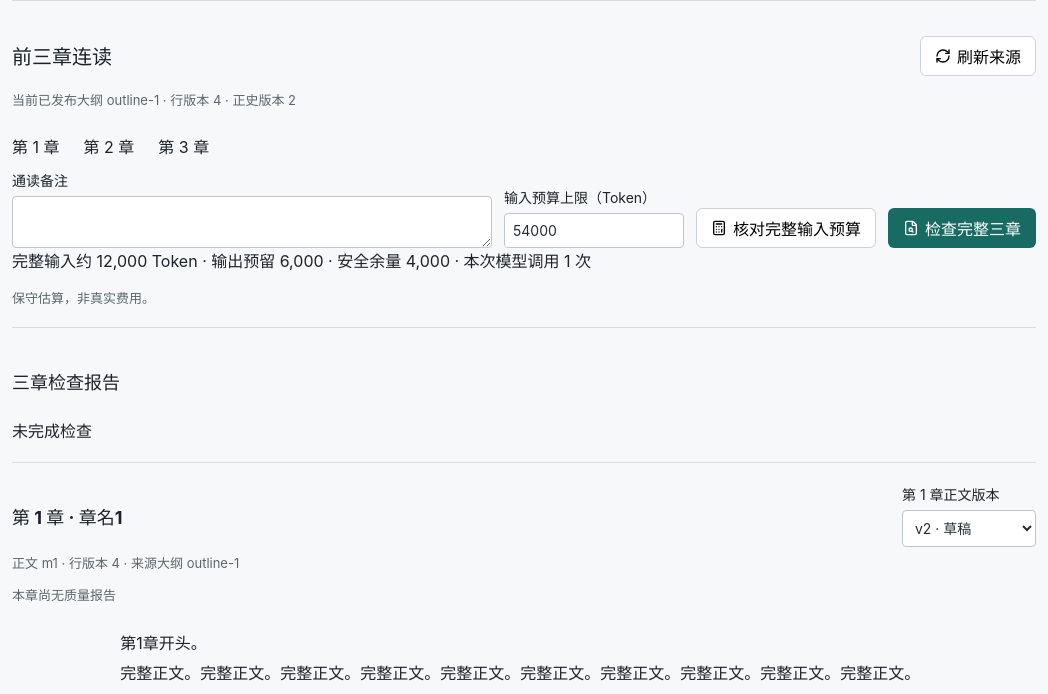
FirstThreeChaptersPanel › shows a failed check and waits for explicit retry
The width and height of the screenshot is (1048, 694).
Click the button "检查完整三章": {"x": 962, "y": 228} left=888, top=208, right=1036, bottom=248
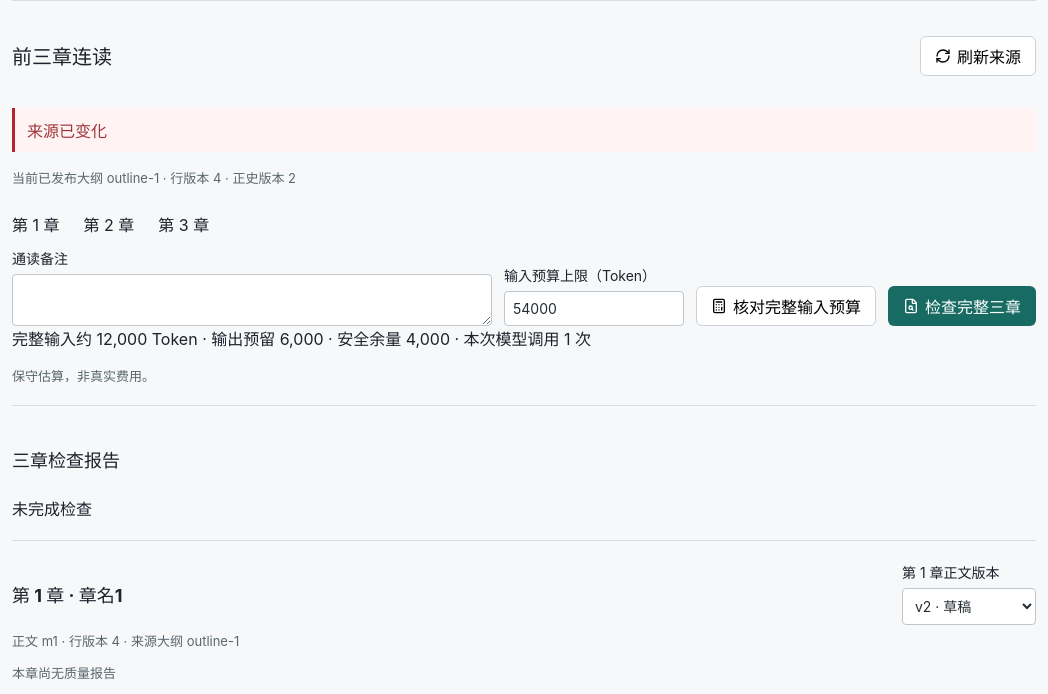
Expected: the message "来源已变化" is shown, left=12, top=108, right=1036, bottom=152
